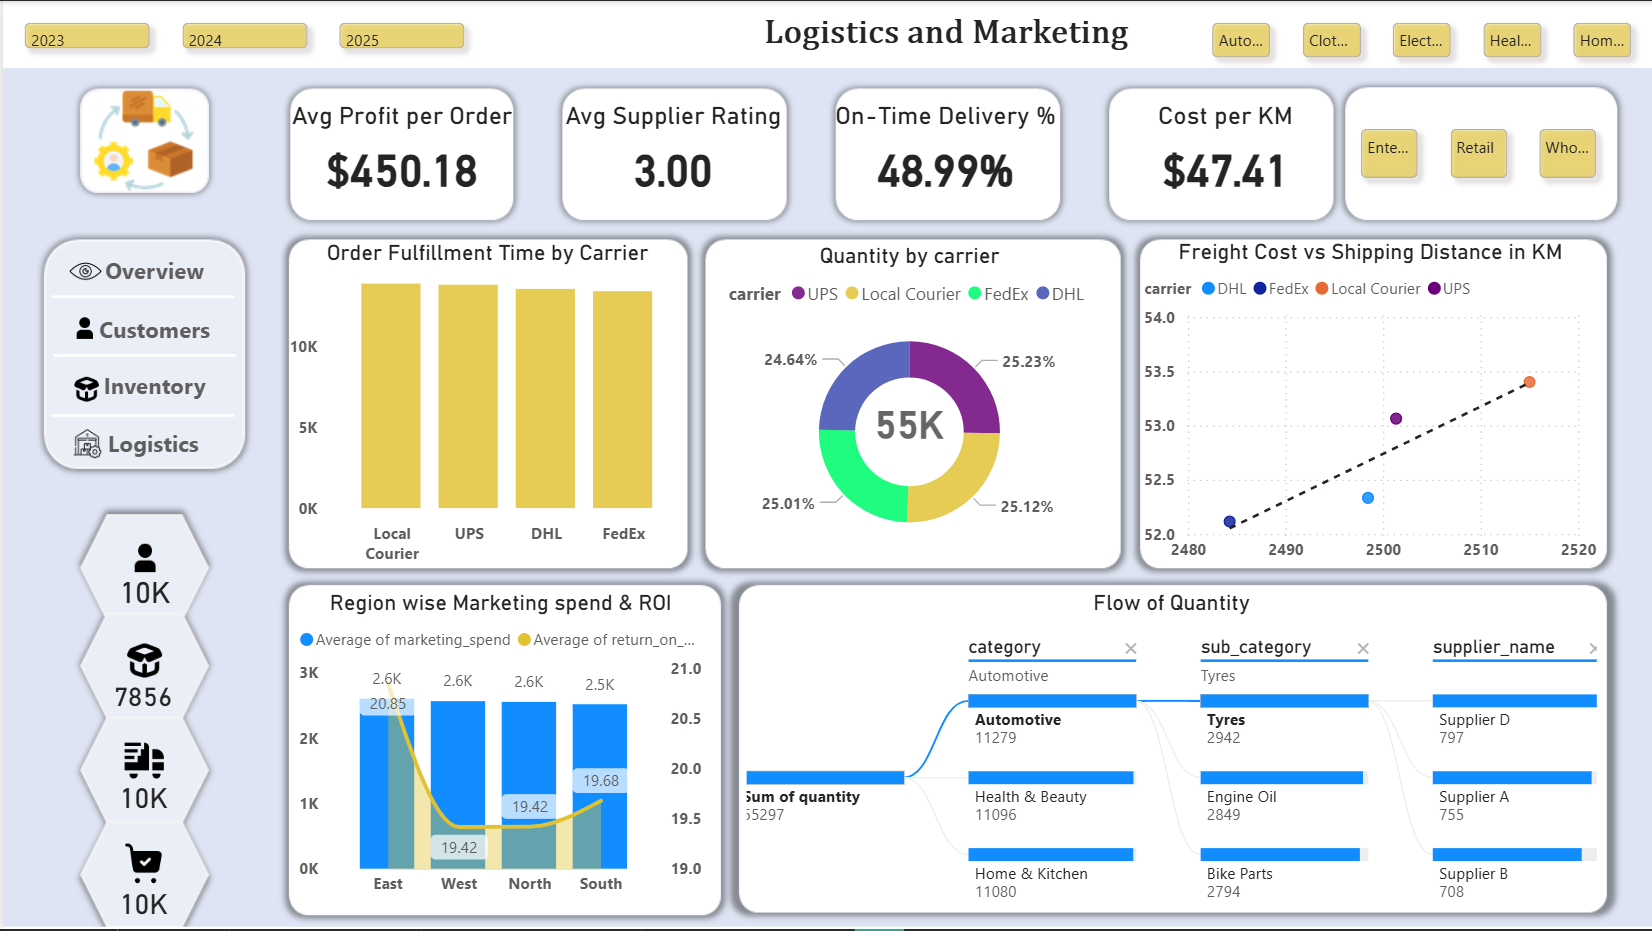

Layout of this report page (visuals, bound fields, positions):
{"tool":"powerbi","page":{"name":"Logistics and Marketing","canvas":[1280,720],"ordinal":3},"visuals":[{"type":"columnChart","title":"Order Fulfillment Time by Carrier","fields":{"Category":["final_eda_ready_orders.carrier"],"Y":["Sum(final_eda_ready_orders.order_fulfillment_time)"]},"box":[217.4,184.9,317.4,259.3],"z":0},{"type":"image","box":[44.4,245.6,37.8,16.7],"z":0,"group":"g7"},{"type":"group","id":"g1","title":"Group 3","box":[83.6,421.1,53.5,52.3],"z":0,"group":"g5"},{"type":"image","box":[88.3,421.1,44.2,22.1],"z":0,"group":"g1"},{"type":"image","box":[88.2,499,43,26.7],"z":0,"group":"g2"},{"type":"card","fields":{"Values":["final_eda_ready_orders.total_orders"]},"box":[85.9,604.8,47.7,26.7],"z":0,"group":"g3"},{"type":"scatterChart","title":"Freight Cost vs Shipping Distance in KM","fields":{"X":["Avg(final_eda_ready_orders.shipping_distance_km)"],"Y":["Avg(final_eda_ready_orders.freight_cost)"],"Series":["final_eda_ready_orders.carrier"]},"box":[880.2,183.7,360.5,259.3],"z":1000},{"type":"donutChart","title":" Quantity by carrier","fields":{"Category":["final_eda_ready_orders.carrier"],"Y":["Sum(final_eda_ready_orders.quantity)"]},"box":[546.5,187.2,312.8,245.3],"z":1000,"group":"g8"},{"type":"image","box":[55.5,290,18.9,22.2],"z":1000,"group":"g7"},{"type":"card","fields":{"Values":["Count(final_eda_ready_orders.customer_id)"]},"box":[83.6,443.2,53.5,30.2],"z":1000,"group":"g1"},{"type":"group","id":"g2","title":"Group 4","box":[78.9,499,60.5,55.8],"z":1000,"group":"g5"},{"type":"card","fields":{"Values":["Count(final_eda_ready_orders.Product Name)"]},"box":[78.9,525.7,60.5,29.1],"z":1000,"group":"g2"},{"type":"image","box":[91.7,574.6,37.2,30.2],"z":1000,"group":"g3"},{"type":"card","fields":{"Values":["Sum(final_eda_ready_orders.quantity)"]},"box":[664.7,308.8,75.2,37.9],"z":2000,"group":"g8"},{"type":"image","box":[54.4,330,22.2,25.6],"z":2000,"group":"g7"},{"type":"lineStackedColumnComboChart","title":"Region wise Marketing spend & ROI","fields":{"Category":["final_eda_ready_orders.region"],"Y":["Avg(final_eda_ready_orders.marketing_spend)"],"Y2":["Avg(final_eda_ready_orders.return_on_investment)"]},"box":[224.4,457,322.1,246.5],"z":2000},{"type":"group","id":"g3","title":"Group 5","box":[85.9,574.6,47.7,57],"z":2000,"group":"g5"},{"type":"card","title":"Avg Profit per Order","fields":{"Values":["Avg(final_eda_ready_orders.profit_per_order)"]},"box":[217.4,77.9,184.9,81.4],"z":3000},{"type":"image","box":[50,196.7,26.7,25.6],"z":3000,"group":"g7"},{"type":"group","id":"g4","title":"Group 6","box":[85.9,647.8,47.7,65.1],"z":3000,"group":"g5"},{"type":"card","title":"Avg Supplier Rating","fields":{"Values":["Avg(final_eda_ready_orders.supplier_rating)"]},"box":[427.9,77.9,184.9,81.4],"z":4000},{"type":"card","fields":{"Values":["final_eda_ready_orders.total_orders"]},"box":[85.9,686.2,47.7,26.7],"z":4000,"group":"g4"},{"type":"card","title":"On-Time Delivery %","fields":{"Values":["final_eda_ready_orders.On-Time Delivery %"]},"box":[639.5,77.9,182.6,81.4],"z":5000},{"type":"image","box":[90.6,647.8,37.2,41.9],"z":5009,"group":"g4"},{"type":"card","title":"Cost per KM","fields":{"Values":["final_eda_ready_orders.Cost per Km"]},"box":[859.3,77.9,176.7,81.4],"z":6000},{"type":"decompositionTreeVisual","title":"Flow of Quantity","fields":{"Analyze":["Sum(final_eda_ready_orders.quantity)"],"ExplainBy":["final_eda_ready_orders.category","final_eda_ready_orders.sub_category","final_eda_ready_orders.supplier_name","final_eda_ready_orders.carrier","final_eda_ready_orders.customer_segment","final_eda_ready_orders.country"]},"box":[572.1,457,668.6,254.7],"z":7000},{"type":"group","id":"g5","title":"Group 7","box":[78.9,421.1,61.1,291.1],"z":8000},{"type":"group","id":"g6","title":"Group 1","box":[37.9,223.3,143.3,104.4],"z":9000},{"type":"group","id":"g7","title":"Group 2","box":[44.4,196.7,37.8,158.9],"z":10000},{"type":"group","id":"g8","title":"Group 8","box":[546.5,187.2,312.8,245.3],"z":11000},{"type":"actionButton","box":[68.6,190.7,97.7,34.9],"z":12000},{"type":"actionButton","box":[68.6,236,97.7,34.9],"z":13000},{"type":"shape","box":[37.9,223.3,141.9,12.8],"z":14000,"group":"g6"},{"type":"actionButton","box":[68.6,280.2,97.7,34.9],"z":14000},{"type":"shape","box":[39.1,268.6,141.9,12.8],"z":15000,"group":"g6"},{"type":"actionButton","box":[67.4,324.4,97.7,34.9],"z":15000},{"type":"advancedSlicerVisual","fields":{"Values":["final_eda_ready_orders.delivery_date.Variation.Date Hierarchy.Year"]},"box":[0,0,377.9,54.7],"z":16000},{"type":"shape","box":[37.9,315.2,141.9,12.8],"z":16000,"group":"g6"},{"type":"textbox","box":[553.5,4.7,355.8,46.5],"z":17000},{"type":"advancedSlicerVisual","fields":{"Values":["final_eda_ready_orders.category"]},"box":[918.6,0,361.6,61.6],"z":18000},{"type":"advancedSlicerVisual","fields":{"Values":["final_eda_ready_orders.customer_segment"]},"box":[1036,79.1,217.4,72.1],"z":19000}]}

Visuals, with their boxes in screenshot pixels (x1, y1, x2, y2), scaled from the page's 1280x720 canvas onto the 1652x931 screenshot:
"Order Fulfillment Time by Carrier" columnChart: box=[281, 239, 690, 574]
image: box=[57, 318, 106, 339]
"Group 3" group: box=[108, 545, 177, 612]
image: box=[114, 545, 171, 573]
image: box=[114, 645, 169, 680]
card - final_eda_ready_orders.total_orders: box=[111, 782, 172, 817]
"Freight Cost vs Shipping Distance in KM" scatterChart: box=[1136, 238, 1601, 573]
" Quantity by carrier" donutChart: box=[705, 242, 1109, 559]
image: box=[72, 375, 96, 404]
card - Count(final_eda_ready_orders.customer_id): box=[108, 573, 177, 612]
"Group 4" group: box=[102, 645, 180, 717]
card - Count(final_eda_ready_orders.Product Name): box=[102, 680, 180, 717]
image: box=[118, 743, 166, 782]
card - Sum(final_eda_ready_orders.quantity): box=[858, 399, 955, 448]
image: box=[70, 427, 99, 460]
"Region wise Marketing spend & ROI" lineStackedColumnComboChart: box=[290, 591, 705, 910]
"Group 5" group: box=[111, 743, 172, 817]
"Avg Profit per Order" card: box=[281, 101, 519, 206]
image: box=[65, 254, 99, 287]
"Group 6" group: box=[111, 838, 172, 922]
"Avg Supplier Rating" card: box=[552, 101, 791, 206]
card - final_eda_ready_orders.total_orders: box=[111, 887, 172, 922]
"On-Time Delivery %" card: box=[825, 101, 1061, 206]
image: box=[117, 838, 165, 892]
"Cost per KM" card: box=[1109, 101, 1337, 206]
"Flow of Quantity" decompositionTreeVisual: box=[738, 591, 1601, 920]
"Group 7" group: box=[102, 545, 181, 921]
"Group 1" group: box=[49, 289, 234, 424]
"Group 2" group: box=[57, 254, 106, 460]
"Group 8" group: box=[705, 242, 1109, 559]
actionButton: box=[89, 247, 215, 292]
actionButton: box=[89, 305, 215, 350]
shape: box=[49, 289, 232, 305]
actionButton: box=[89, 362, 215, 407]
shape: box=[50, 347, 234, 364]
actionButton: box=[87, 419, 213, 465]
advancedSlicerVisual - final_eda_ready_orders.delivery_date.Variation.Date Hierarchy.Year: box=[0, 0, 488, 71]
shape: box=[49, 408, 232, 424]
textbox: box=[714, 6, 1174, 66]
advancedSlicerVisual - final_eda_ready_orders.category: box=[1186, 0, 1651, 80]
advancedSlicerVisual - final_eda_ready_orders.customer_segment: box=[1337, 102, 1618, 196]
